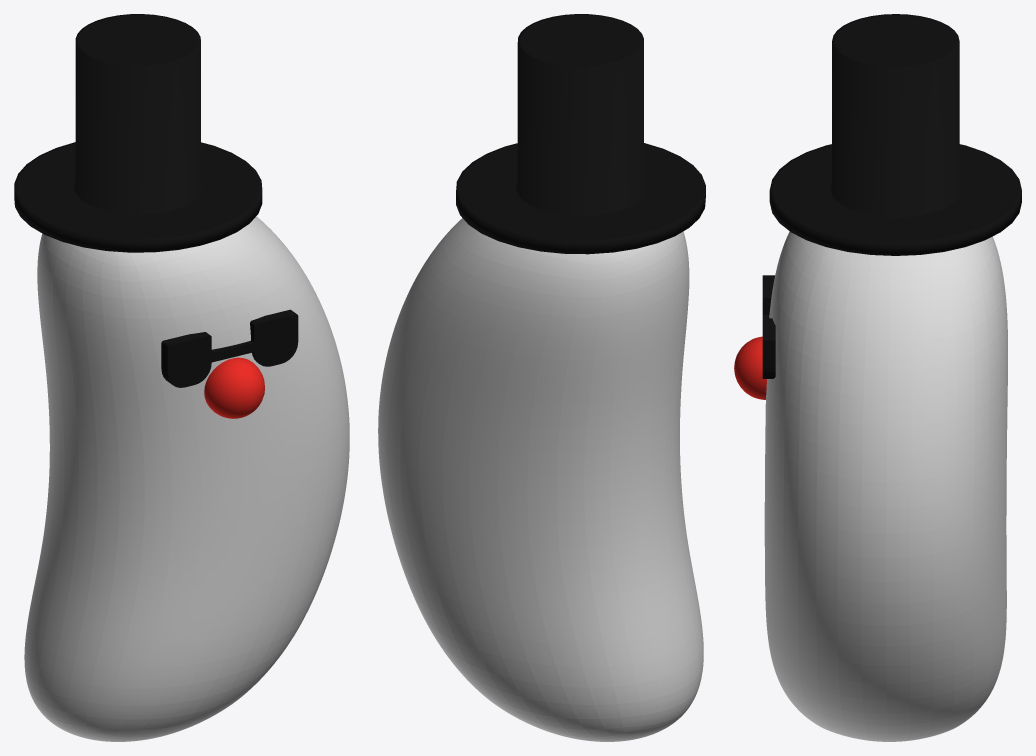
The model's file is BeanTopHatSHadesClownNose.fbx.
The picture shows the model from 3 angles, left to right: view 1: azimuth 30°, elevation 25°; view 2: azimuth 150°, elevation 25°; view 3: azimuth 270°, elevation 25°; orthographic projection.
Visible parts, largest first — view 1: beanb, TopHat, B), clown nose; view 2: beanb, TopHat; view 3: beanb, TopHat, clown nose, B).
Boxes of the visible parts, box(x1,y1,x2,y2) form: beanb: box(24, 216, 349, 741); TopHat: box(14, 14, 262, 252); B): box(161, 309, 298, 387); clown nose: box(204, 357, 264, 418); beanb: box(378, 218, 703, 741); TopHat: box(456, 14, 705, 254); beanb: box(764, 231, 1007, 741); TopHat: box(769, 14, 1021, 255); clown nose: box(734, 336, 766, 399); B): box(762, 275, 775, 378).
Size of the model in its own units: 377 by 817 by 309.
